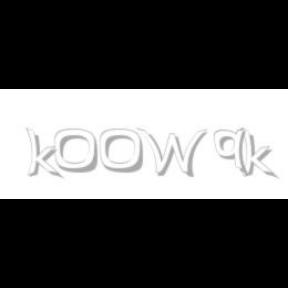O: (54, 128, 98, 174), (100, 128, 144, 174)
W: (136, 128, 208, 178)
k: (25, 128, 63, 180), (240, 128, 278, 180)
q: (214, 128, 250, 176)
